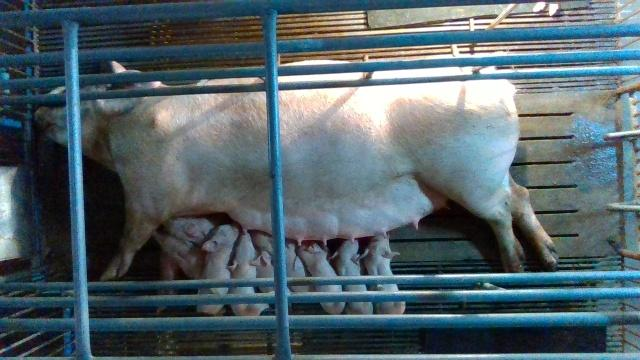piglet: (182, 224, 238, 318), (251, 225, 306, 314), (147, 228, 202, 301), (356, 235, 405, 315), (295, 240, 344, 313), (226, 231, 268, 316), (330, 239, 373, 314), (160, 205, 219, 246)
sow-sleep-lactate: (34, 59, 560, 309)
